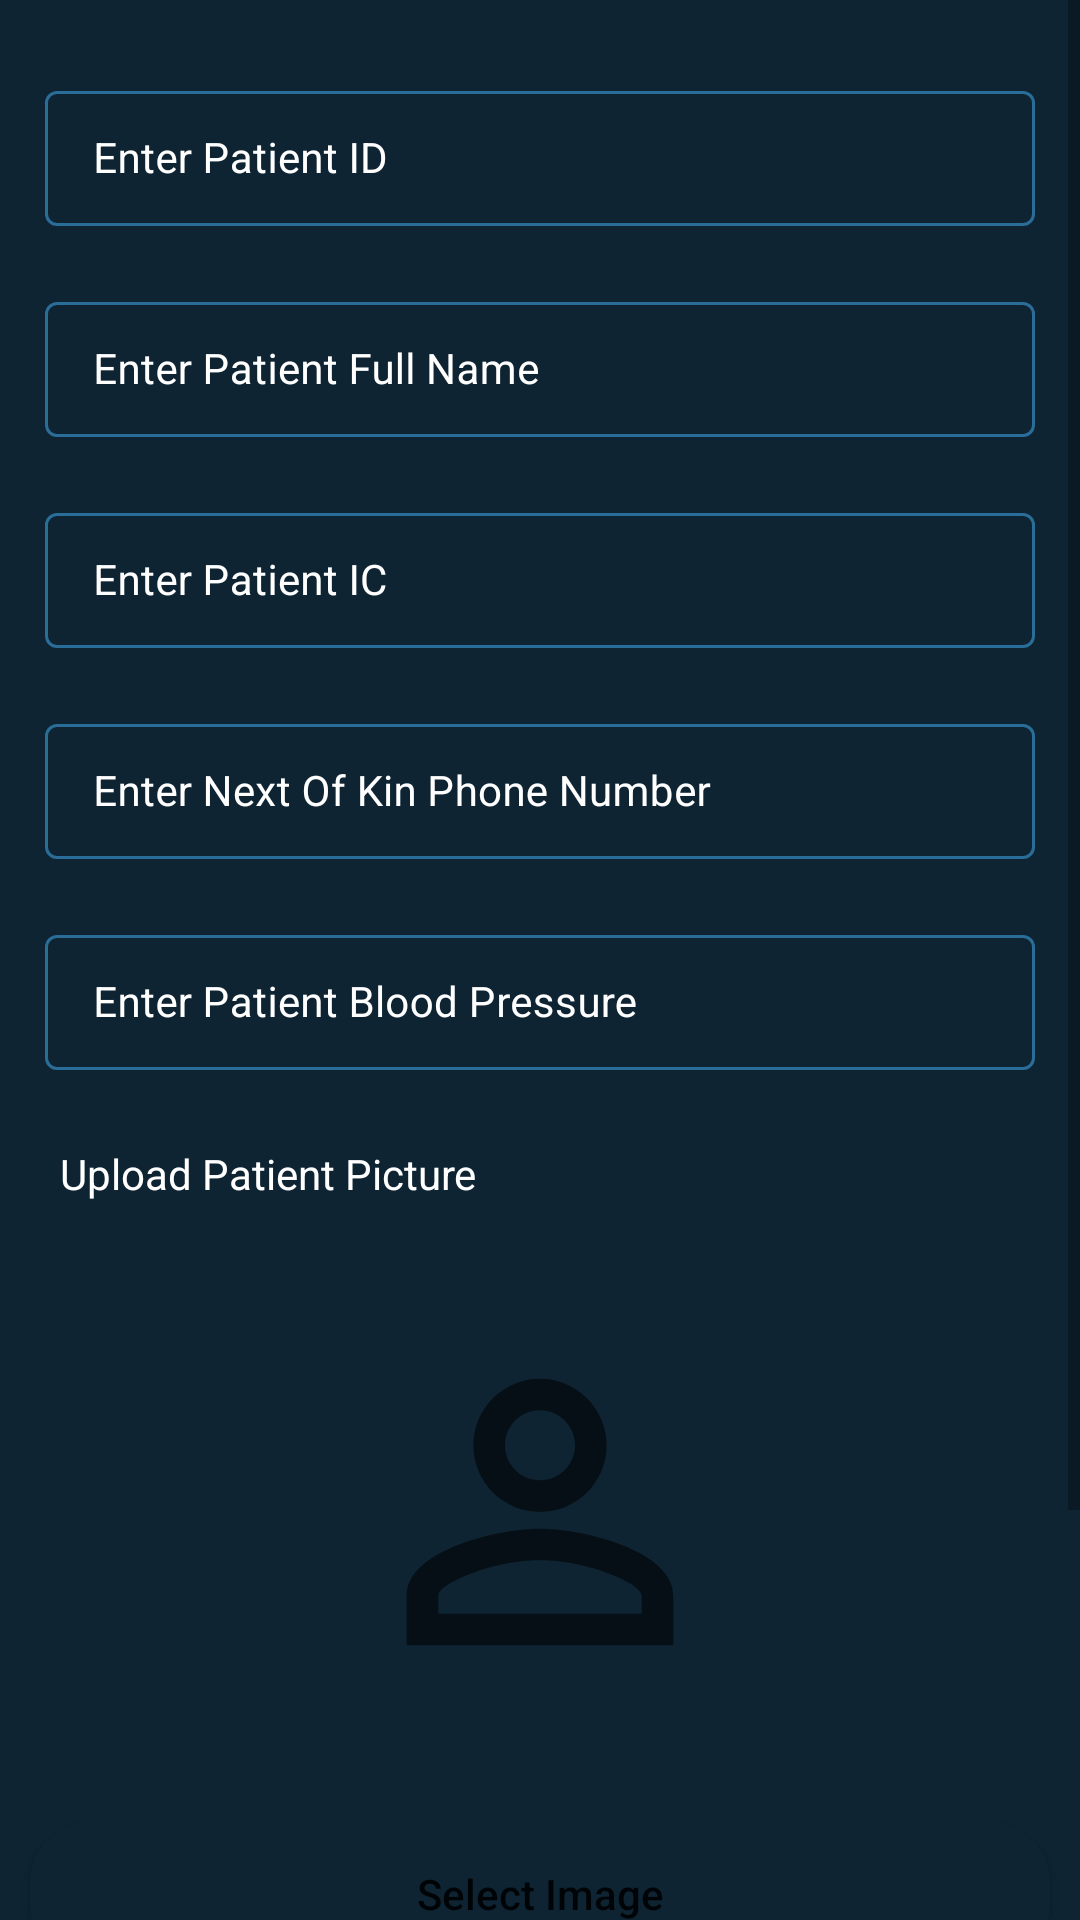

Named icons in this screenshot (1080x1920) and their bounding boxes, (x1, y1, x2, y2):
person: (407, 1379, 673, 1645)
